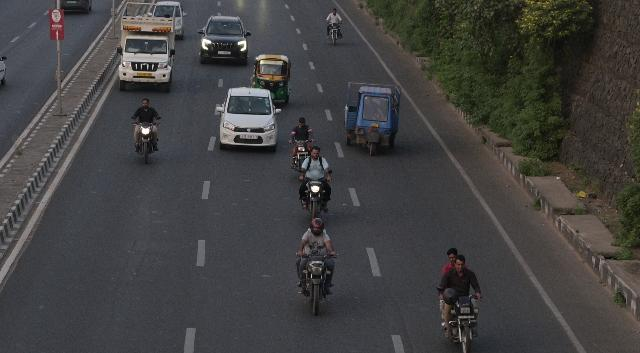With Helmet: (310, 218, 324, 237)
Without Helmet: (307, 145, 323, 159), (454, 256, 466, 272), (446, 246, 456, 264), (139, 96, 151, 108), (298, 115, 308, 127), (333, 7, 337, 15)
